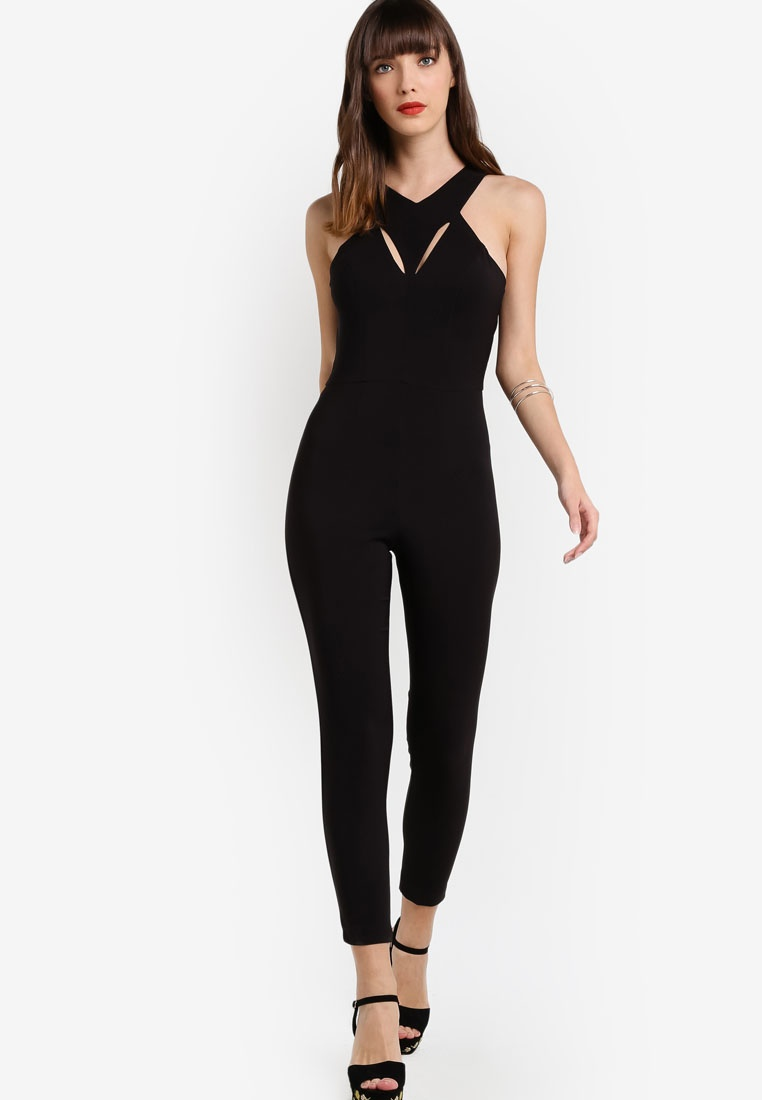S_suit: (277, 140, 508, 941)
